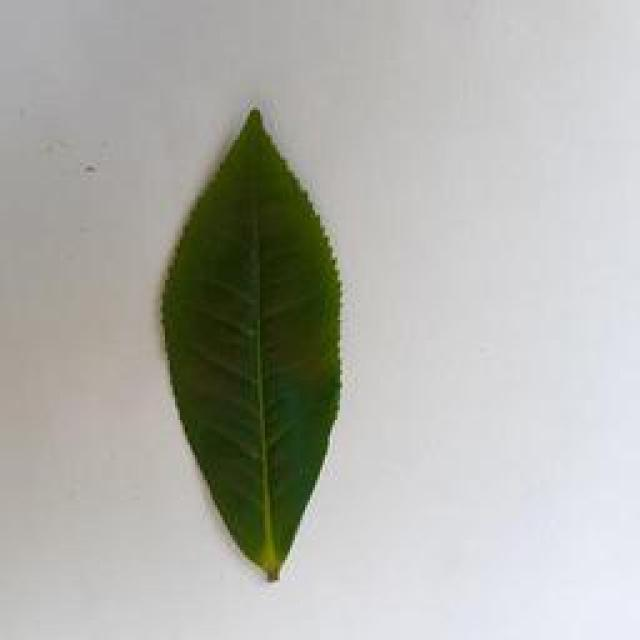Healthy: (149, 93, 353, 600)
